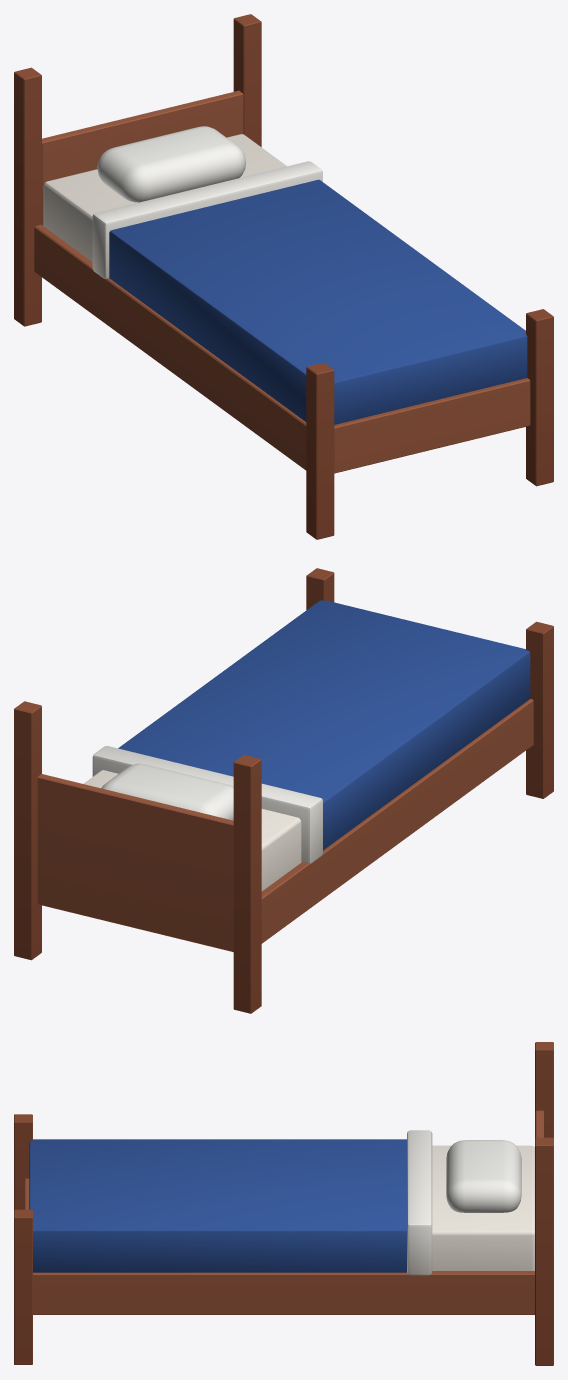
File: SingleBedBlue.glb
3 views of the same model, one above another, from view 1: azimuth 30°, elevation 25°; view 2: azimuth 150°, elevation 25°; view 3: azimuth 270°, elevation 25° (orthographic). The views are drawn at different scales.
Visible parts, largest first — view 1: SingleBedBlue; view 2: SingleBedBlue; view 3: SingleBedBlue.
Part boxes in pixels (x1,y1,x2,y2): SingleBedBlue: (14,14,553,539); SingleBedBlue: (14,568,553,1013); SingleBedBlue: (14,1042,553,1365).
Size of the model in its own units: 0.9735 by 0.9694 by 2.15.
1 material, 1 textured.
